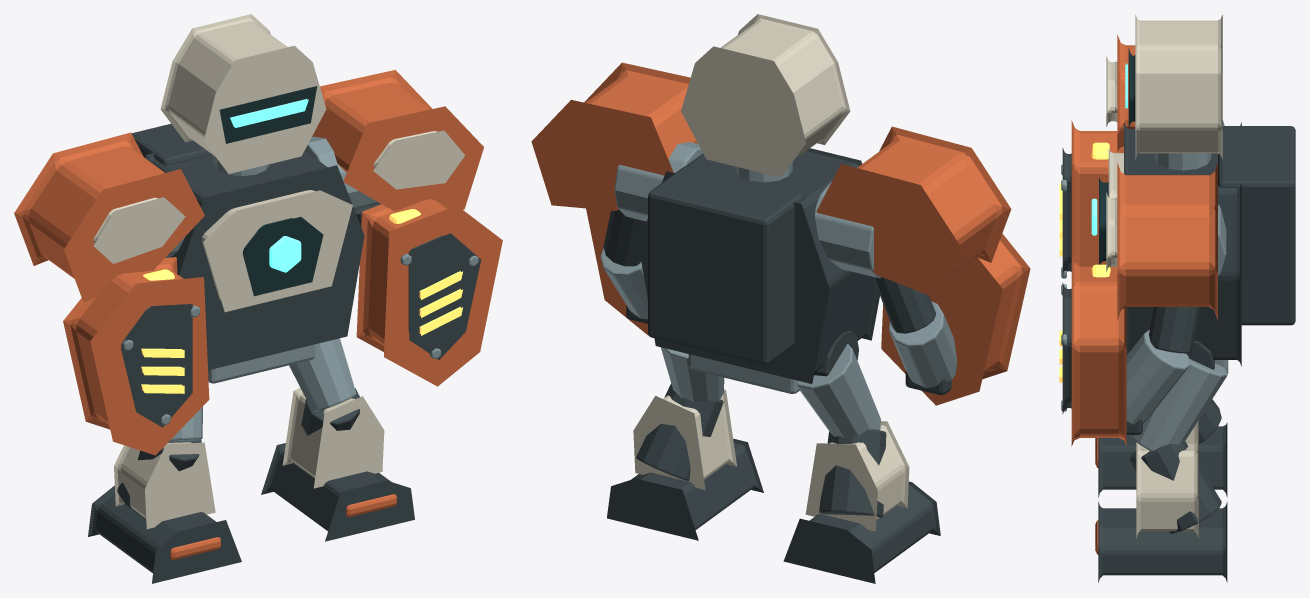
File: bulwark.glb
The picture shows the model from 3 angles, left to right: view 1: azimuth 30°, elevation 25°; view 2: azimuth 150°, elevation 25°; view 3: azimuth 270°, elevation 25°; orthographic projection. The views are drawn at different scales.
Parts seen in each view (by area): view 1: Keel, Shoulder shield L, Head housing, Arm guard L, Arm guard R, Shoulder shield R, Breastplate, Foot L, Foot R, Shin shell R, Shin shell L, Inset armor L (+15 smaller); view 2: Spine pack, Shoulder shield L, Head housing, Shoulder shield R, Keel, Arm guard L, Foot L, Foot R, Shin shell L, Shin shell R, Thigh piston L, Forearm actuator L (+11 smaller); view 3: Shoulder shield R, Spine pack, Head housing, Arm guard R, Foot R, Keel, Shin shell R, Arm guard L, Thigh piston R, Forearm actuator R, Foot L, Shin axle R (+13 smaller).
Part boxes in pixels (left/top/right/bottom): Keel: left=145, top=151, right=364, bottom=370; Shoulder shield L: left=14, top=132, right=204, bottom=302; Head housing: left=160, top=14, right=326, bottom=173; Arm guard L: left=63, top=257, right=209, bottom=455; Arm guard R: left=356, top=199, right=502, bottom=386; Shoulder shield R: left=312, top=70, right=483, bottom=211; Breastplate: left=202, top=190, right=352, bottom=312; Foot L: left=88, top=485, right=241, bottom=583; Foot R: left=261, top=443, right=414, bottom=541; Shin shell R: left=282, top=388, right=384, bottom=488; Shin shell L: left=114, top=442, right=215, bottom=529; Inset armor L: left=120, top=304, right=192, bottom=427; Spine pack: left=648, top=166, right=804, bottom=364; Shoulder shield L: left=816, top=126, right=1011, bottom=299; Head housing: left=681, top=14, right=850, bottom=177; Shoulder shield R: left=531, top=62, right=697, bottom=210; Keel: left=638, top=148, right=879, bottom=383; Arm guard L: left=881, top=233, right=1030, bottom=405; Foot L: left=783, top=481, right=940, bottom=583; Foot R: left=607, top=438, right=763, bottom=540; Shin shell L: left=805, top=421, right=909, bottom=531; Shin shell R: left=633, top=389, right=737, bottom=489; Thigh piston L: left=797, top=344, right=880, bottom=437; Forearm actuator L: left=889, top=301, right=956, bottom=387; Shoulder shield R: left=1117, top=163, right=1217, bottom=320; Spine pack: left=1218, top=126, right=1295, bottom=325; Head housing: left=1135, top=14, right=1222, bottom=159; Arm guard R: left=1071, top=255, right=1126, bottom=446; Foot R: left=1098, top=501, right=1227, bottom=582; Keel: left=1124, top=122, right=1241, bottom=366; Shin shell R: left=1136, top=438, right=1198, bottom=538; Arm guard L: left=1071, top=120, right=1123, bottom=266; Thigh piston R: left=1131, top=359, right=1227, bottom=451; Forearm actuator R: left=1126, top=330, right=1189, bottom=424; Foot L: left=1098, top=422, right=1227, bottom=497; Shin axle R: left=1130, top=441, right=1221, bottom=533.
Bounding box in the file's own units: 2.58 × 2.85 × 1.25.
